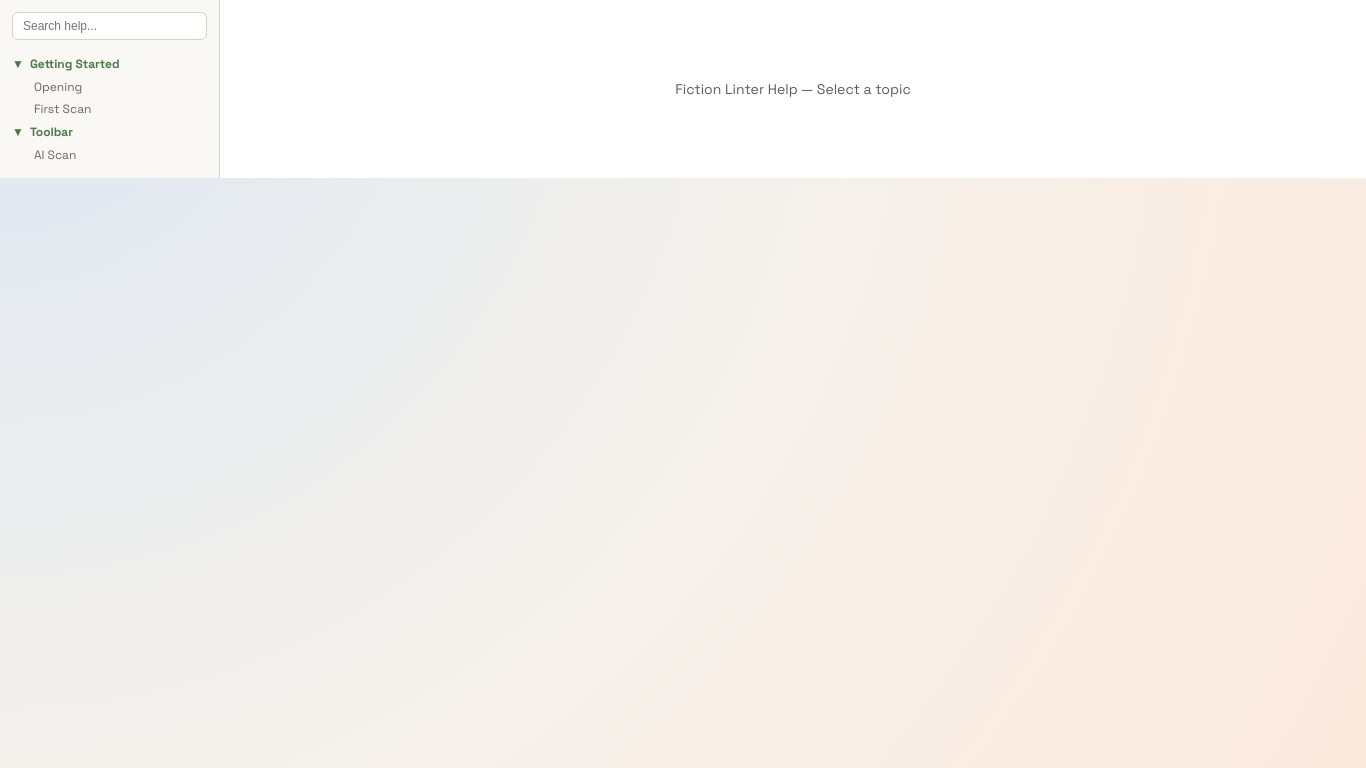
Scenario: HelpTab › filters topics when search text is entered
The image size is (1366, 768).
In the search field with placeholder "Search help...": (110,26) [12,12,207,40], type "scan"
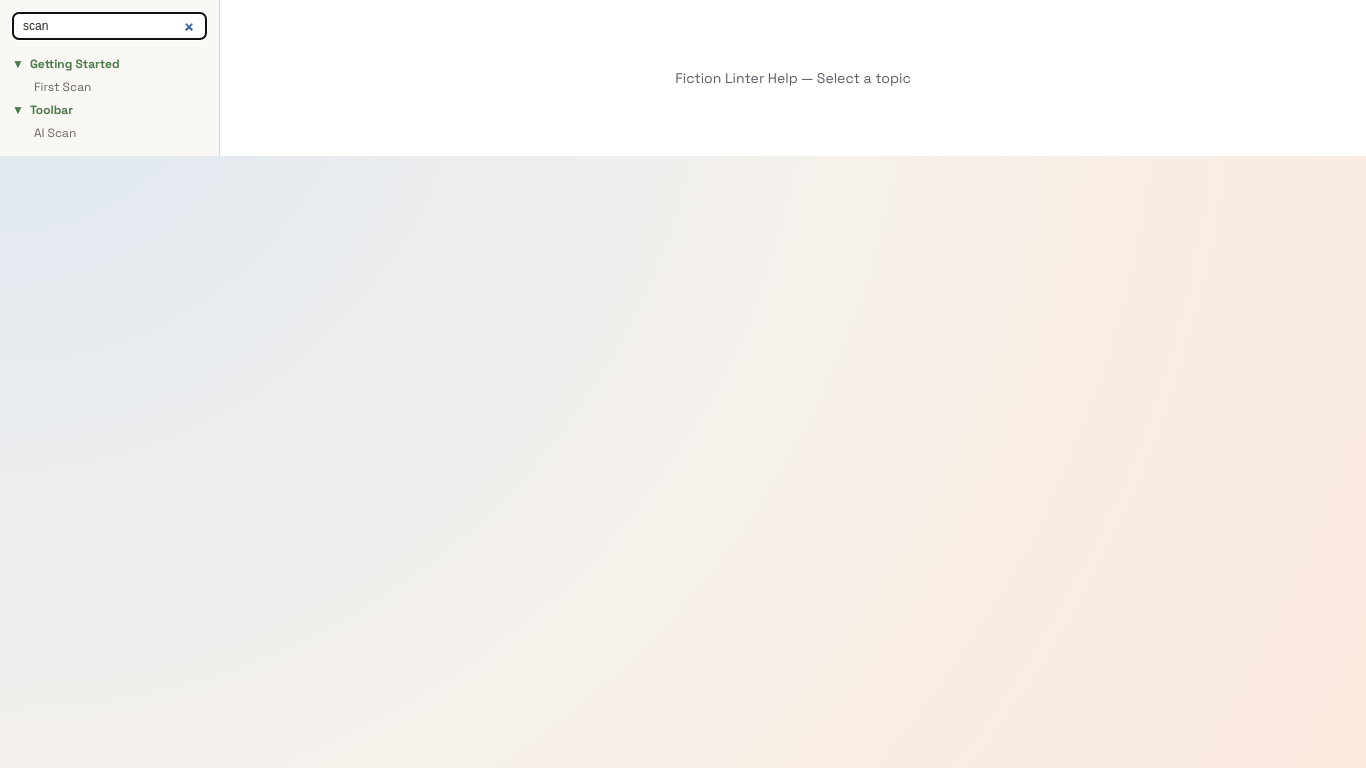
Expected: the button "First Scan" is shown, [28,76,207,98]
Now the button "Opening" is gone
